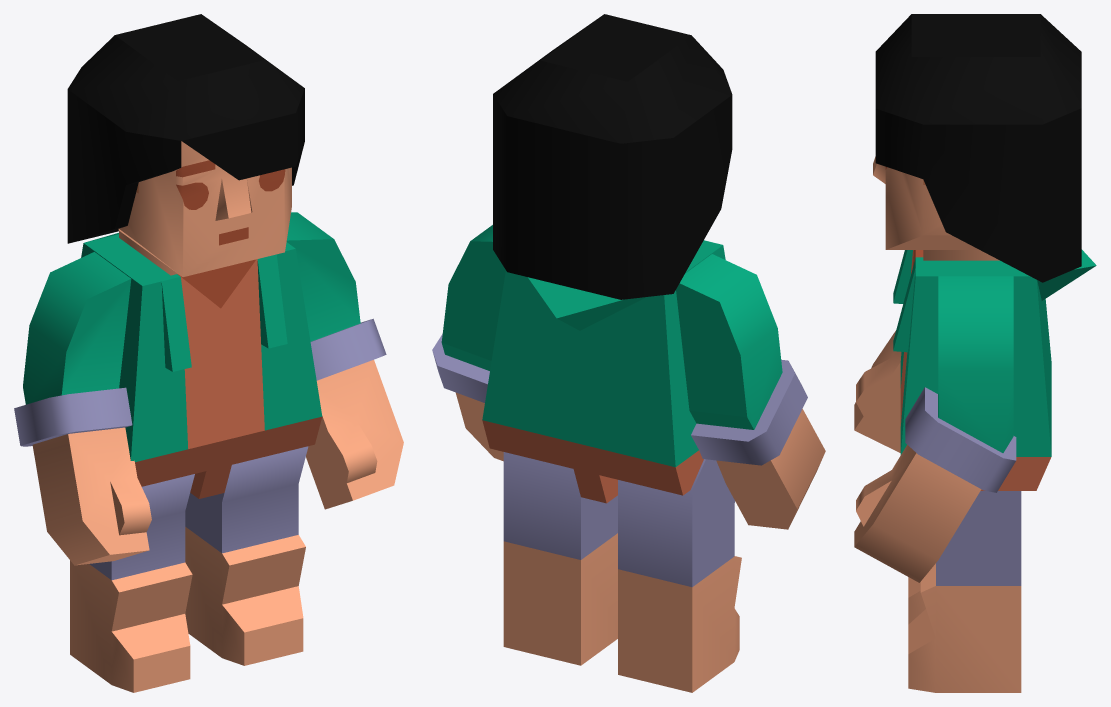
File: type-3 woman.fbx
3 views of the same model, side by side, from view 1: azimuth 30°, elevation 25°; view 2: azimuth 150°, elevation 25°; view 3: azimuth 270°, elevation 25° (orthographic). The views are drawn at different scales.
Parts seen in each view (by area): view 1: mergedBlocks; view 2: mergedBlocks; view 3: mergedBlocks.
Part boxes in pixels (x1,y1,x2,y2): mergedBlocks: (14, 14, 403, 692); mergedBlocks: (432, 14, 825, 692); mergedBlocks: (854, 14, 1096, 692).
Size of the model in its own units: 5.29 by 8.96 by 3.22.
